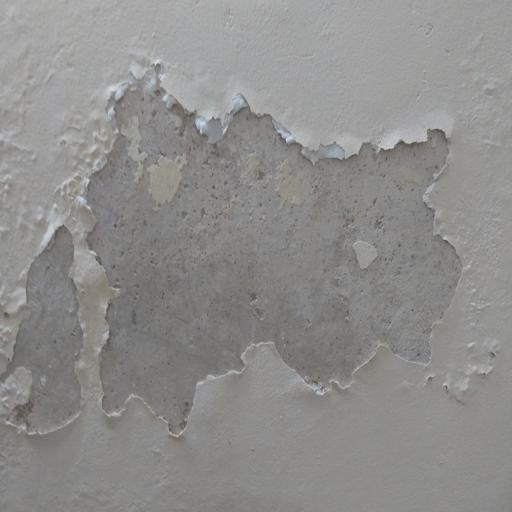peeling: (0, 42, 512, 447)
